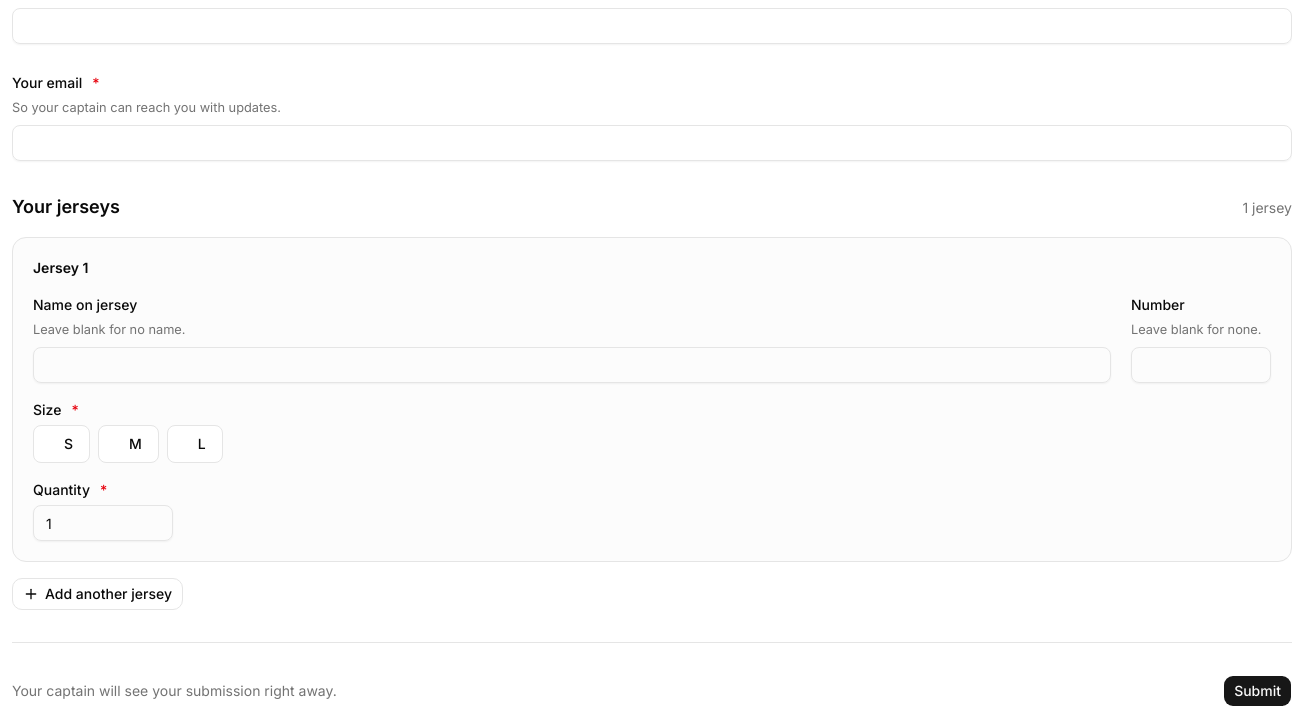
JerseyRunPublicForm › surfaces validation errors when submitting an empty form
(page scrolled)
Click the button "Submit".
click(1258, 691)  # box [1223,675,1292,706]
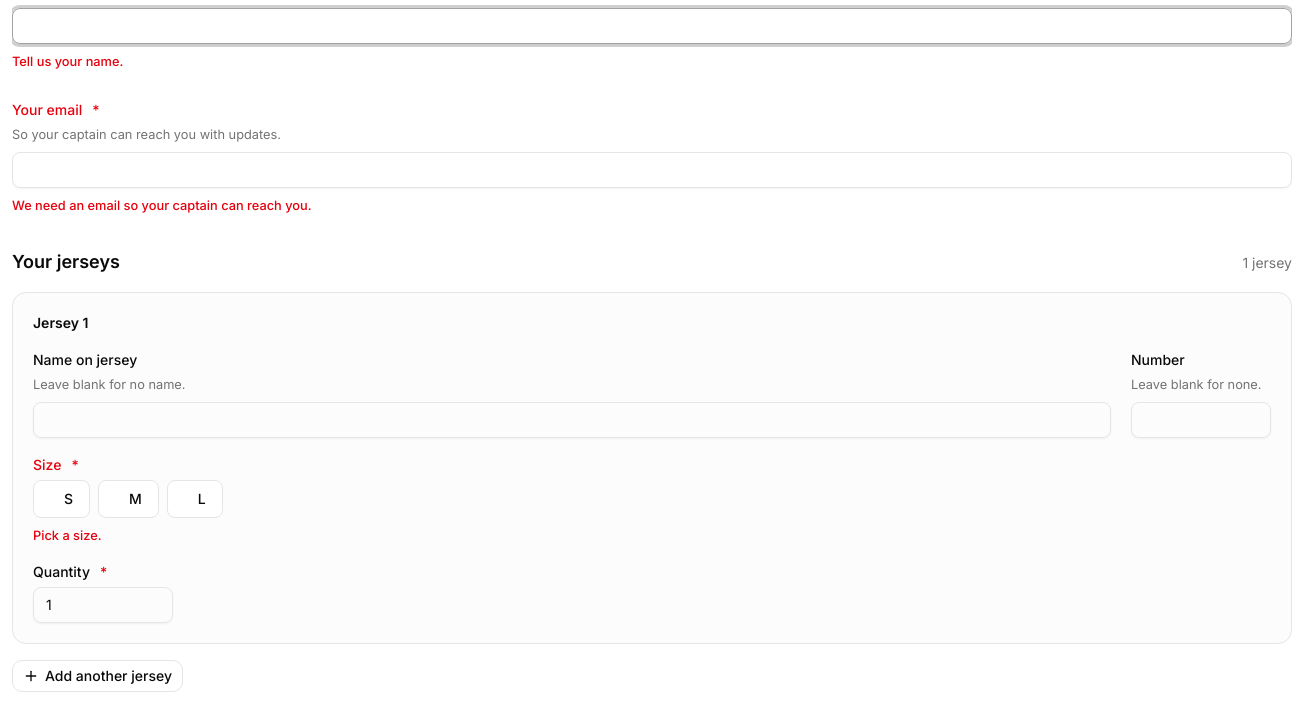
Check: the text "Tell us your name." is shown, box [12,54,123,69]
Check: the text "We need an email so your captain can reach you." is shown, box [12,198,312,213]
Check: the text "Pick a size." is shown, box [33,528,102,543]
